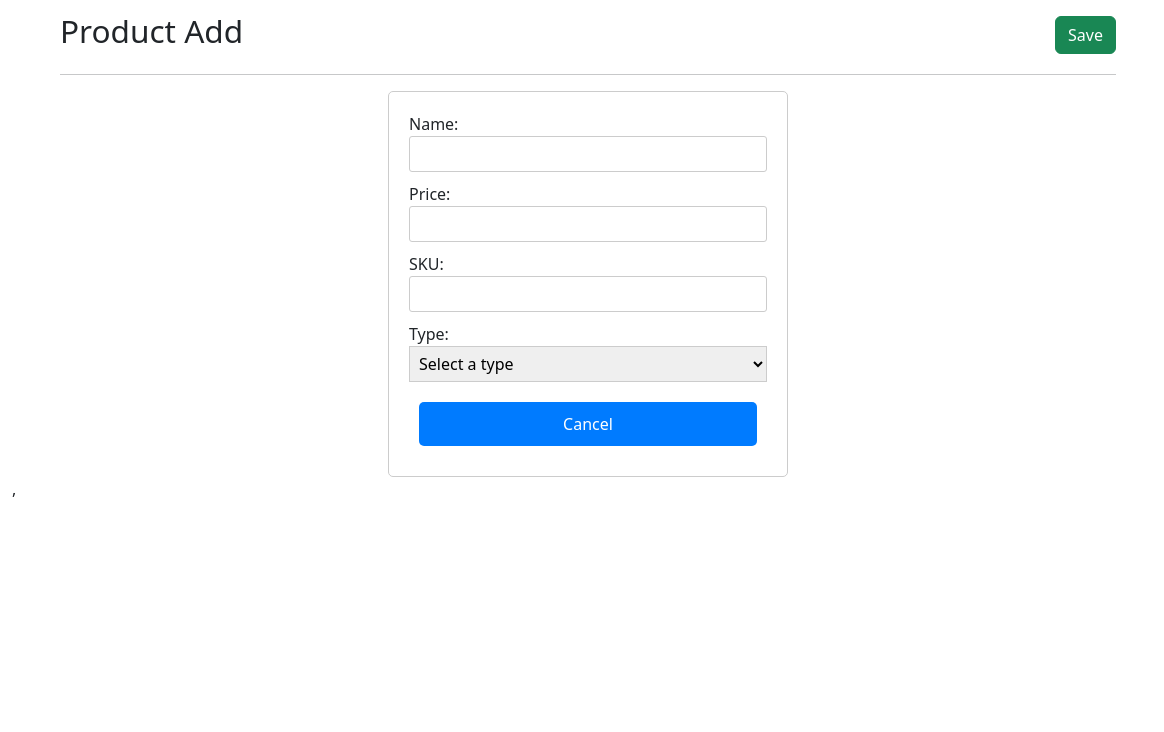
it: AddProductForm Component › should show error message when attribute for DVD is not entered
The image size is (1164, 732).
Type "Test Product" into the field labelled "Name:" at (588, 154), box [409,136,767,172]
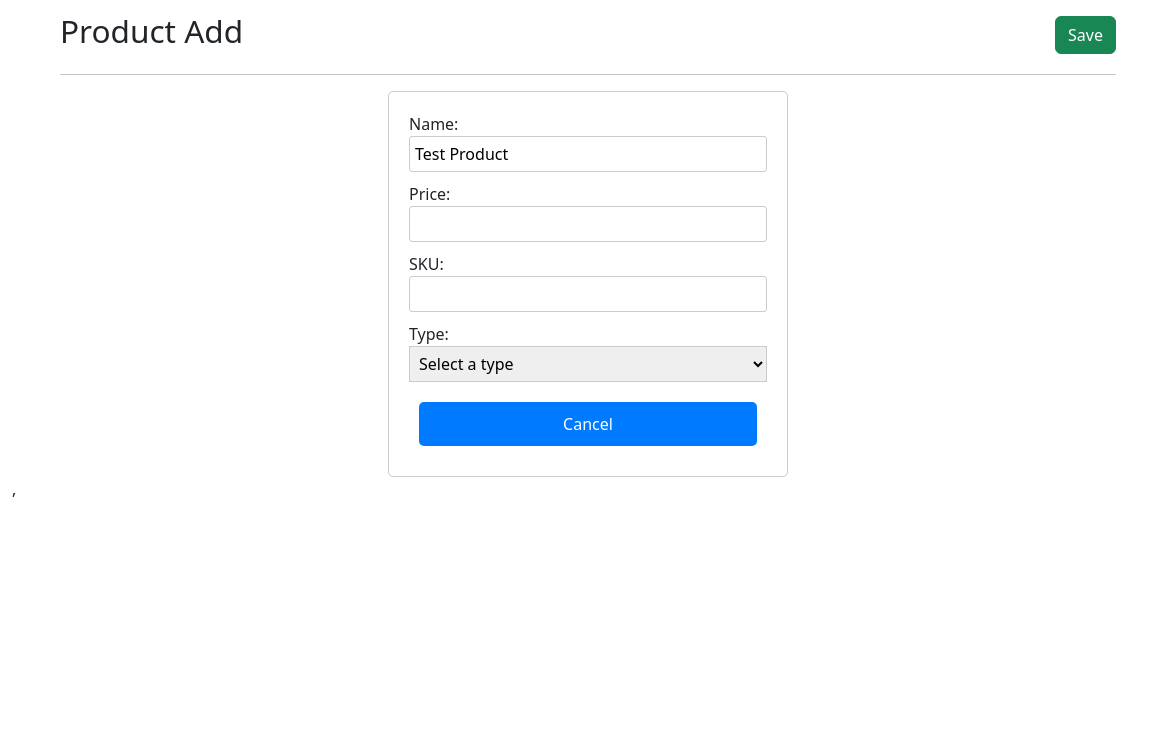
Type "10" into the number field labelled "Price:" at (588, 224), box [409,206,767,242]
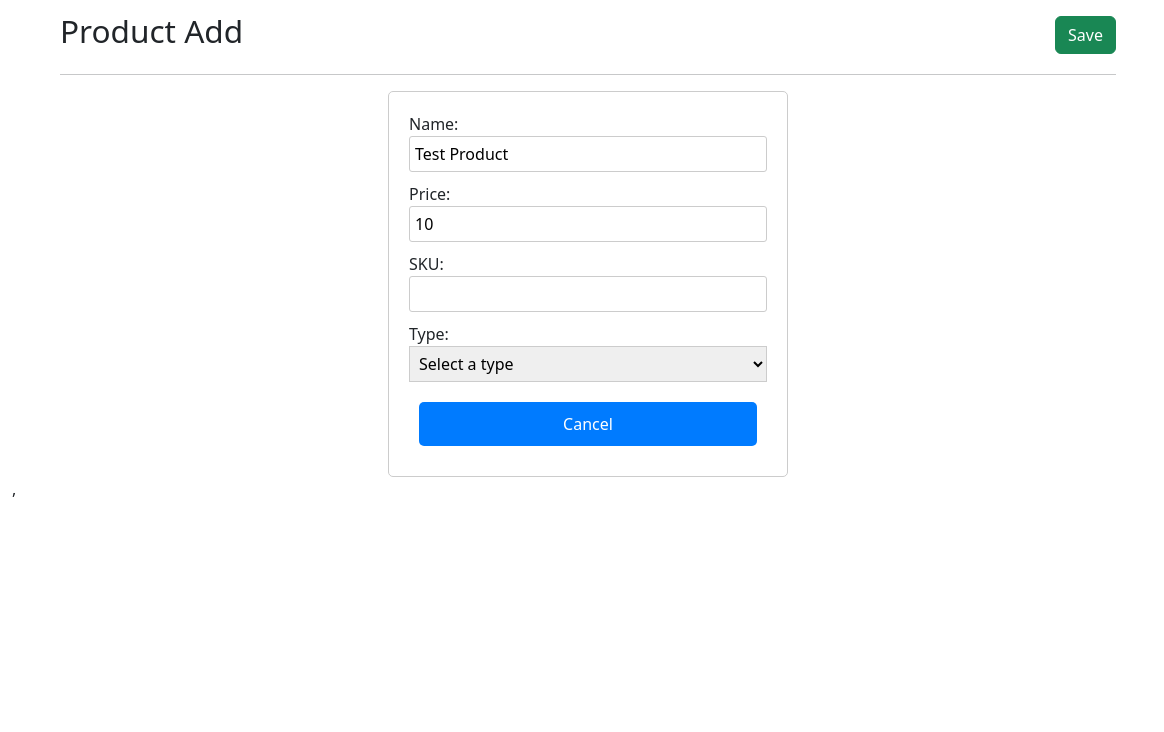
Type "12345" into the field labelled "SKU:" at (588, 294), box [409,276,767,312]
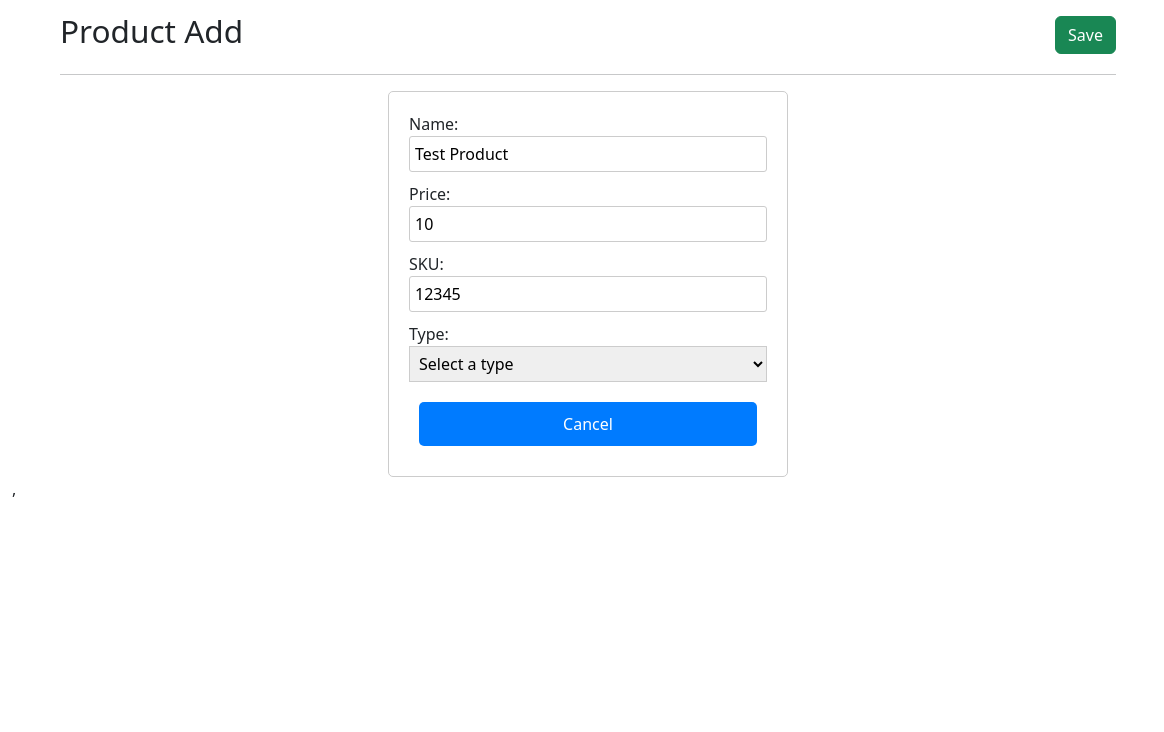
Select "DVD" in the dropdown at (588, 364), box [409,346,767,382]
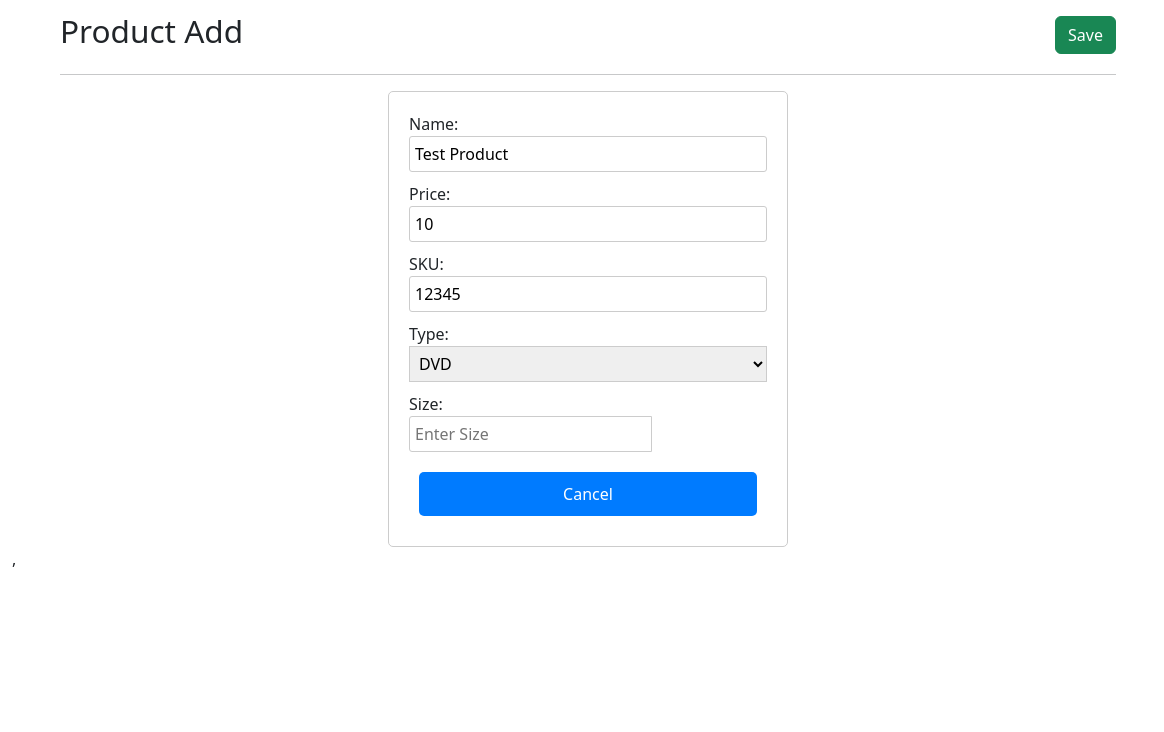
Click the button "Save" at (1086, 35), box [1055,16,1116,54]
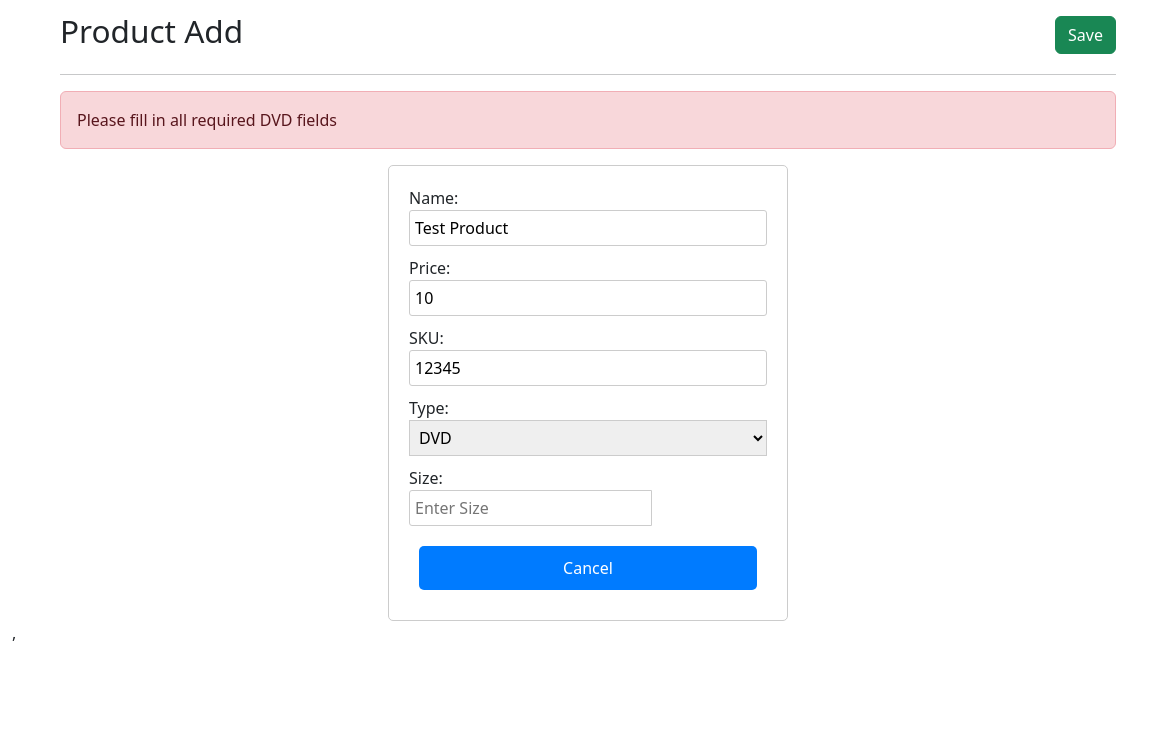
Now the message reads "Please fill in all required DVD fields", box [77,109,337,131]
